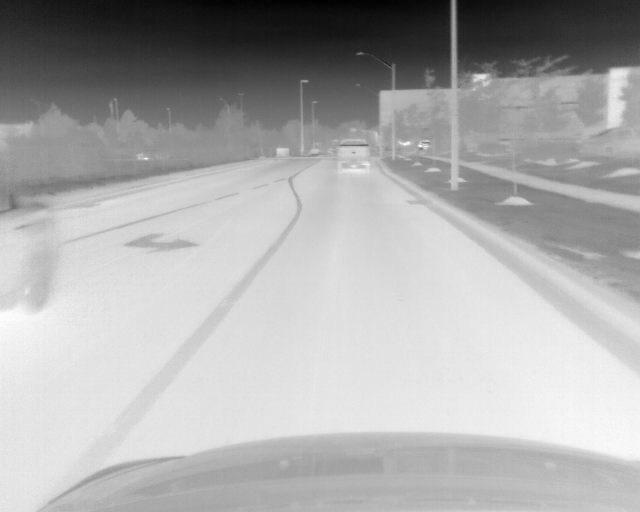car: (2, 192, 56, 315), (336, 137, 372, 180)
